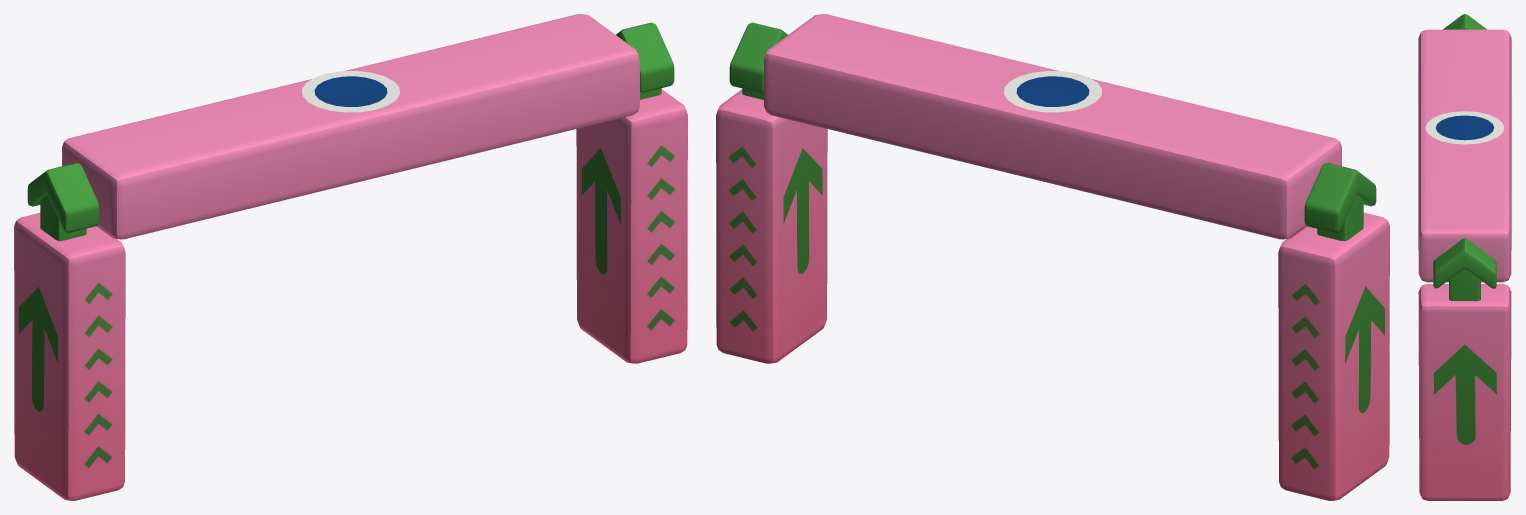
3 views of the same model, side by side, from view 1: azimuth 30°, elevation 25°; view 2: azimuth 150°, elevation 25°; view 3: azimuth 270°, elevation 25° (orthographic). The views are drawn at different scales.
Visible parts, largest first — view 1: shape3_3, top_cycle; view 2: shape3_3, top_cycle; view 3: shape3_3, top_cycle.
Part boxes in pixels (bbox=[...]): shape3_3: bbox=[14, 14, 687, 500]; top_cycle: bbox=[302, 71, 399, 112]; shape3_3: bbox=[716, 14, 1389, 500]; top_cycle: bbox=[1004, 71, 1101, 112]; shape3_3: bbox=[1418, 14, 1511, 500]; top_cycle: bbox=[1425, 111, 1504, 144].
Size of the model in its own units: 30.95 by 15.08 by 5.
